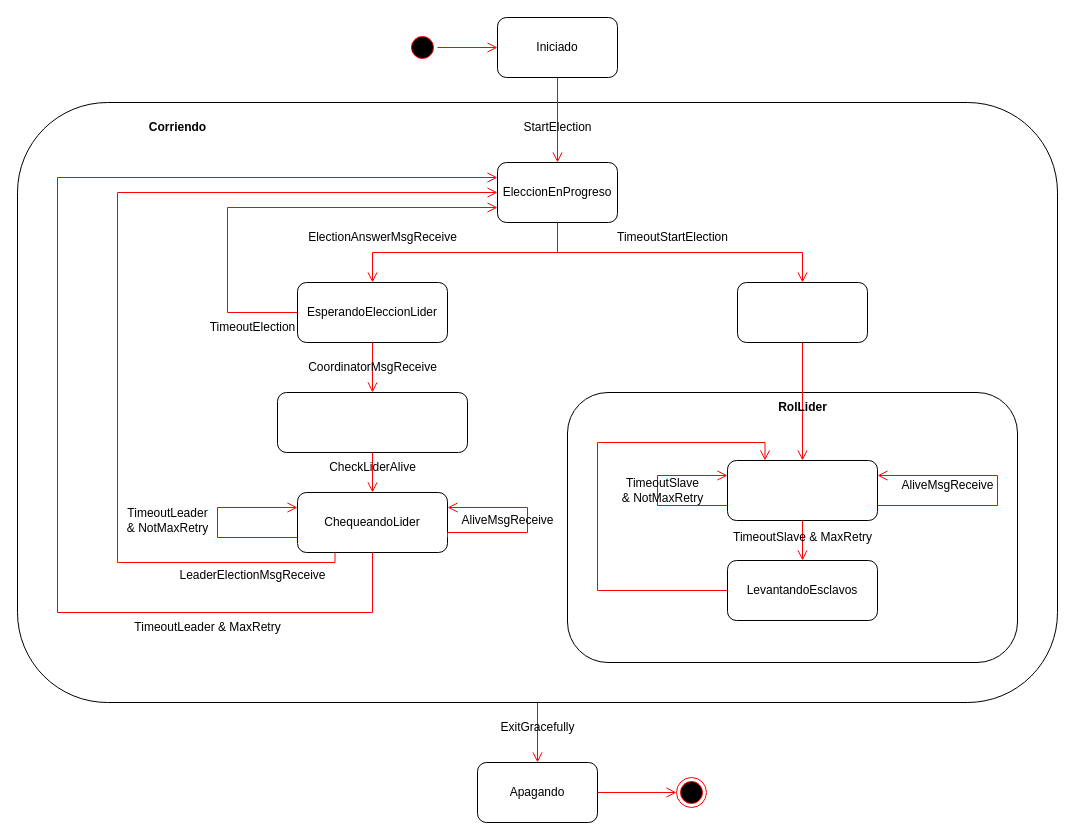
The diagram is 1075 pixels wide and 840 high, and some of its shapes have lost their labels. Each missing label, with the centre of its shape:
"AsumiendoComoLider" belongs at [802,312].
"ChequeandoEsclavos" belongs at [802,490].
"RolEsclavo" belongs at [372,422].
